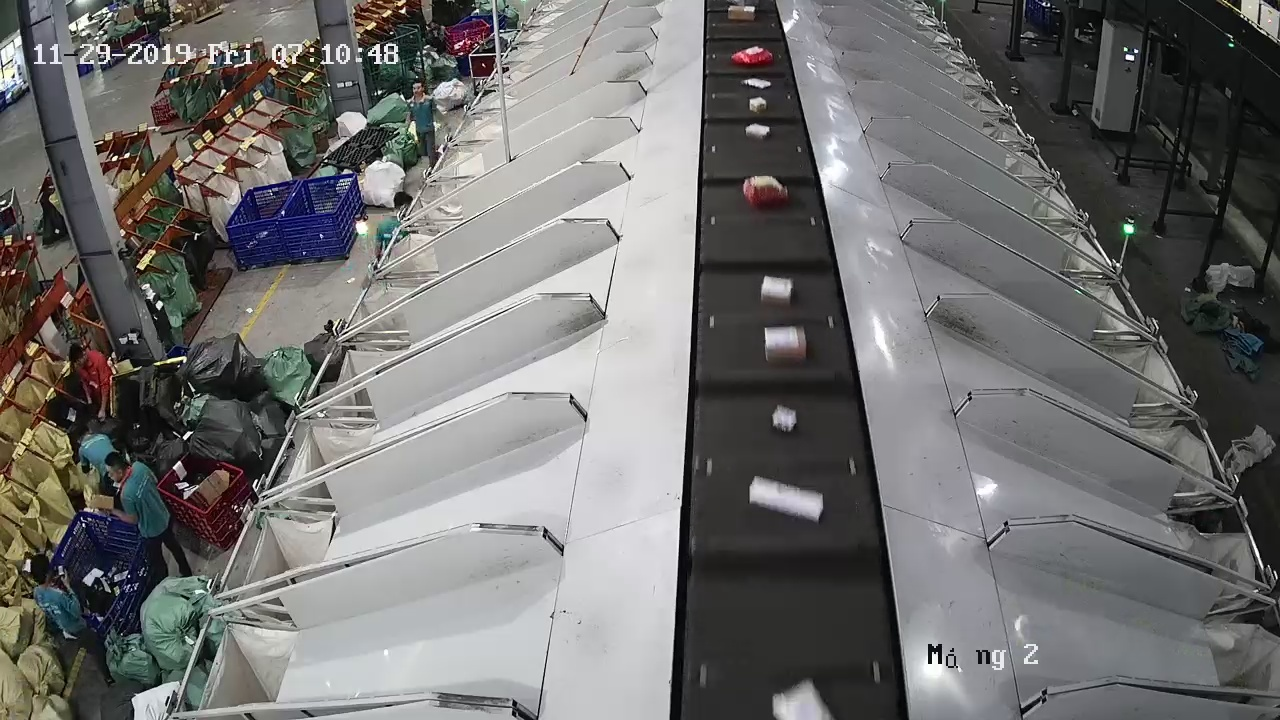parcel: (748, 476, 824, 523), (742, 175, 789, 210), (764, 325, 807, 363), (759, 276, 794, 305), (771, 405, 797, 433)
